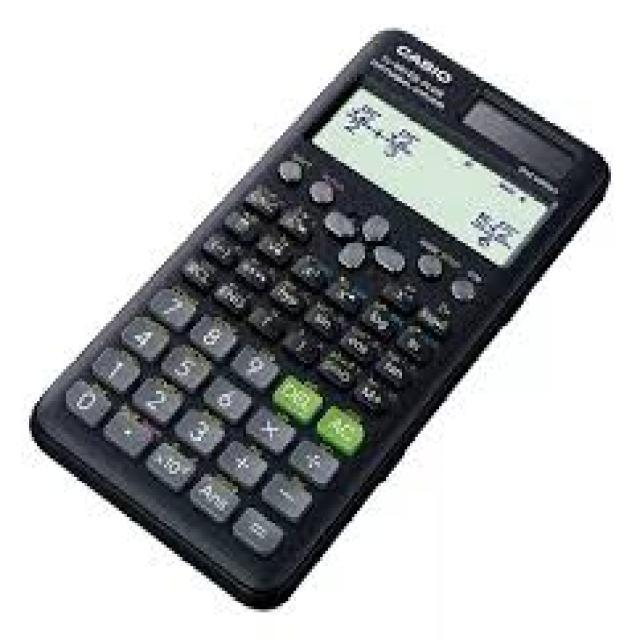Calculator: (0, 14, 630, 636)
